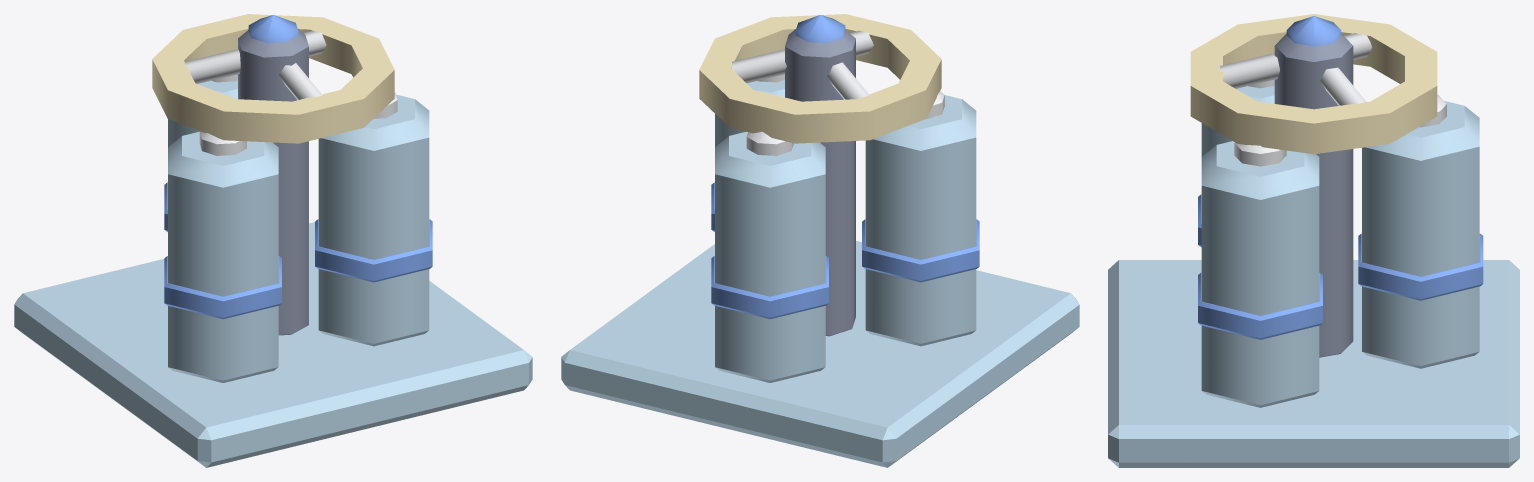
Rendered from R4X_ChargeRegenerator_LOD1.glb.
3 views of the same model, side by side, from view 1: azimuth 30°, elevation 25°; view 2: azimuth 150°, elevation 25°; view 3: azimuth 270°, elevation 25° (orthographic). The views are drawn at different scales.
Visible parts, largest first — view 1: R4X_ChargeRegenerator_LOD1; view 2: R4X_ChargeRegenerator_LOD1; view 3: R4X_ChargeRegenerator_LOD1.
Part boxes in pixels (x1,y1,x2,y2): R4X_ChargeRegenerator_LOD1: (14, 14, 532, 467); R4X_ChargeRegenerator_LOD1: (561, 14, 1079, 467); R4X_ChargeRegenerator_LOD1: (1108, 14, 1519, 467).
Bounding box in the file's own units: 0.52 × 0.515 × 0.52.
